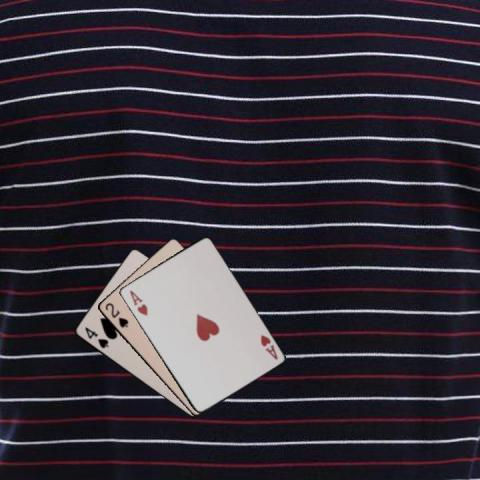2s: (102, 300, 129, 330)
4s: (81, 324, 110, 350)
Ah: (126, 288, 149, 318), (257, 331, 279, 361)
